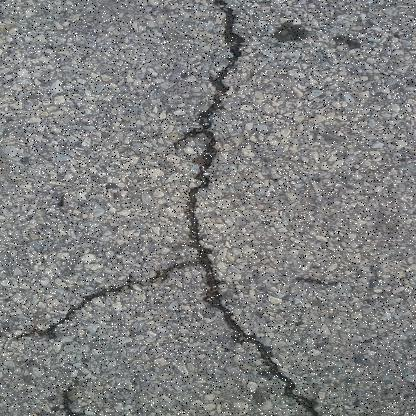Cracks: (172, 0, 333, 415), (32, 255, 208, 340), (47, 365, 95, 416)
